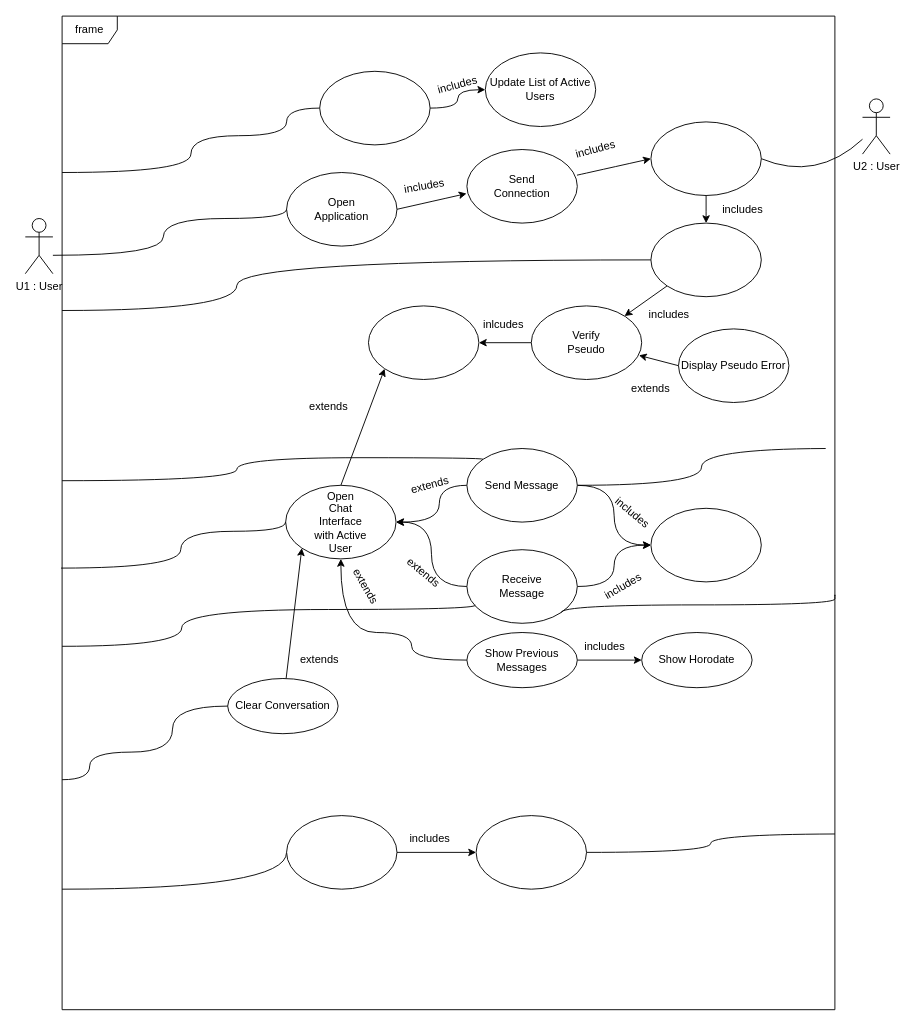
This 915x1026 diagram has some shape labels left out. The centre of each missing label's shape, as x and y in pixels:
"Choose Pseudo" goes at point 705,259.
"Close App" goes at point 341,852.
"Get list of Active Users" goes at point 705,158.
"Notify Disconnection and Liberate Pseudo" goes at point 530,852.
"Open Choose Discussion Interface" goes at point 423,342.
"Receive Disconnection Notification" goes at point 374,107.
"Update Horodate and Historique" goes at point 705,544.
